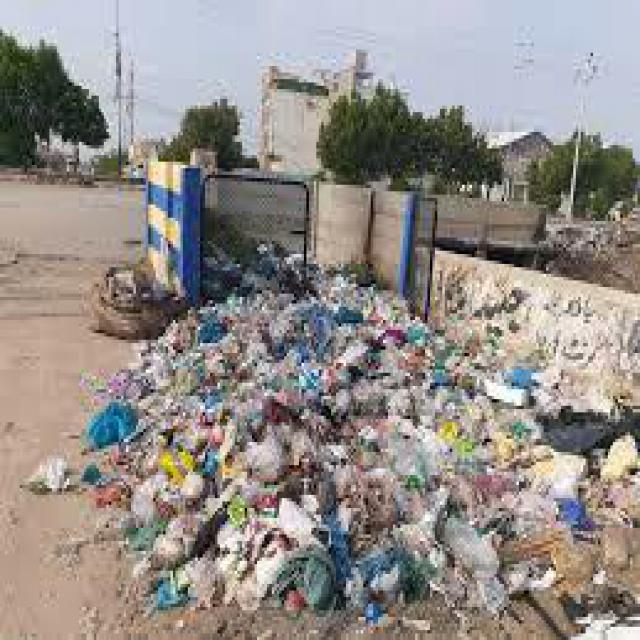garbage: (109, 274, 620, 627)
